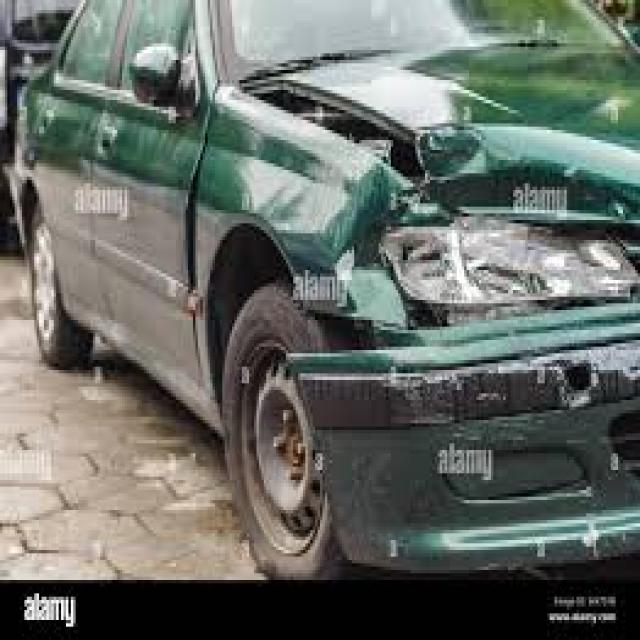moderate: (212, 51, 640, 439)
